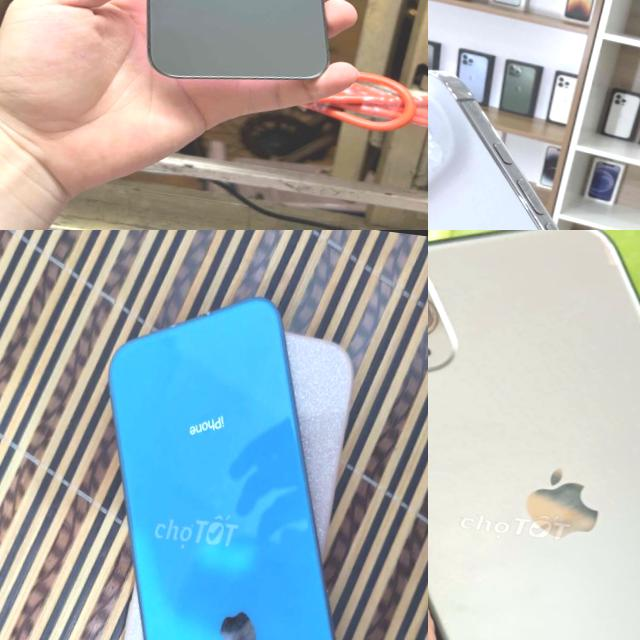gen_11: (428, 230, 640, 640)
gen_12_13: (111, 0, 361, 98)
gen_17: (428, 56, 640, 230)
gen_x_xs: (108, 298, 333, 640)
